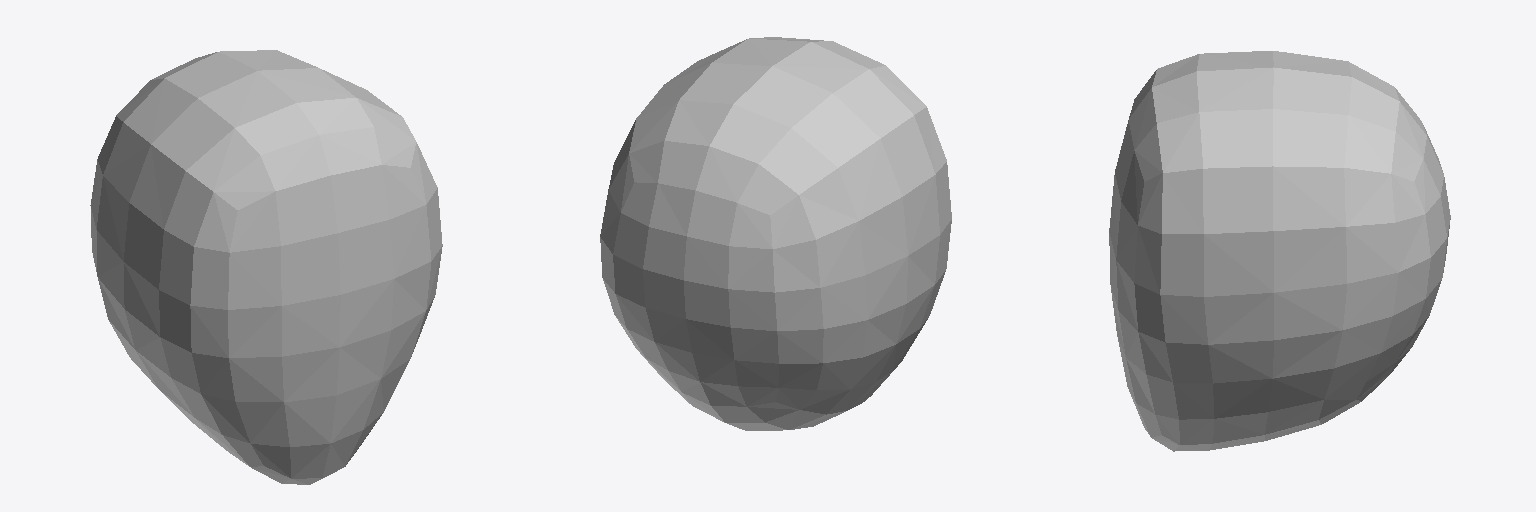
File: fem.obj
3 views of the same model, side by side, from view 1: azimuth 30°, elevation 25°; view 2: azimuth 150°, elevation 25°; view 3: azimuth 270°, elevation 25° (orthographic).
Visible parts, largest first — view 1: head geo; view 2: head geo; view 3: head geo.
Part boxes in pixels (x1,y1,x2,y2): head geo: (90,50,442,484); head geo: (600,37,951,430); head geo: (1109,51,1450,451).
Size of the model in its own units: 17.76 by 23.39 by 19.28.